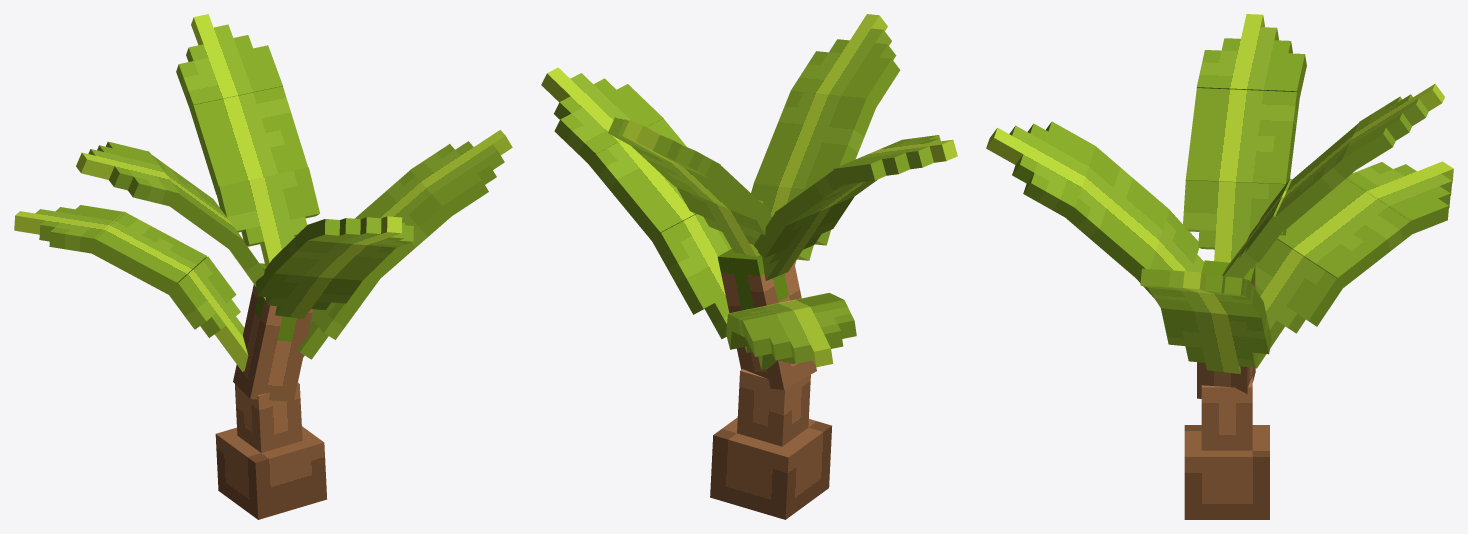
Rendered from PN-BananaTreeNoBanana.gltf.
The picture shows the model from 3 angles, left to right: view 1: azimuth 30°, elevation 25°; view 2: azimuth 150°, elevation 25°; view 3: azimuth 270°, elevation 25°; orthographic projection. The views are drawn at different scales.
Parts seen in each view (by area): view 1: palmTree03$$(1)-Local, l101$$(4)-Local, l100$$(1)-Local, l102$$(4)-Local, Node$$(3)-Local, l101$$(8)-Local, l102$$(5)-Local, l500-Local, l101$$(6)-Local, l102$$(7)-Local, l101$$(5)-Local, l300$$(1)-Local (+5 smaller); view 2: palmTree03$$(1)-Local, l101$$(6)-Local, l102$$(5)-Local, l102$$(6)-Local, l101$$(5)-Local, l200$$(1)-Local, l102$$(8)-Local, Node$$(3)-Local, l102$$(7)-Local, l400$$(1)-Local, l101$$(4)-Local, l100$$(1)-Local (+5 smaller); view 3: palmTree03$$(1)-Local, l101$$(7)-Local, l101$$(8)-Local, l101$$(6)-Local, l102$$(6)-Local, l102$$(7)-Local, l500-Local, l400$$(1)-Local, l200$$(1)-Local, l102$$(8)-Local, l102$$(4)-Local, l101$$(4)-Local (+5 smaller).
Boxes of the visible parts, bbox=[...] form: palmTree03$$(1)-Local: bbox=[215, 382, 327, 519]; l101$$(4)-Local: bbox=[190, 86, 307, 194]; l100$$(1)-Local: bbox=[215, 167, 319, 266]; l102$$(4)-Local: bbox=[176, 14, 282, 111]; Node$$(3)-Local: bbox=[233, 263, 313, 401]; l101$$(8)-Local: bbox=[92, 211, 206, 294]; l102$$(5)-Local: bbox=[410, 130, 512, 217]; l500-Local: bbox=[166, 256, 248, 371]; l101$$(6)-Local: bbox=[272, 225, 395, 280]; l102$$(7)-Local: bbox=[76, 141, 180, 205]; l101$$(5)-Local: bbox=[355, 170, 450, 277]; l300$$(1)-Local: bbox=[255, 259, 362, 318]; palmTree03$$(1)-Local: bbox=[710, 369, 831, 519]; l101$$(6)-Local: bbox=[753, 91, 876, 189]; l102$$(5)-Local: bbox=[541, 67, 663, 163]; l102$$(6)-Local: bbox=[791, 14, 900, 106]; l101$$(5)-Local: bbox=[588, 118, 696, 241]; l200$$(1)-Local: bbox=[652, 214, 731, 339]; l102$$(8)-Local: bbox=[743, 299, 856, 367]; Node$$(3)-Local: bbox=[717, 249, 816, 389]; l102$$(7)-Local: bbox=[833, 135, 957, 185]; l400$$(1)-Local: bbox=[754, 196, 854, 280]; l101$$(4)-Local: bbox=[631, 146, 761, 219]; l100$$(1)-Local: bbox=[676, 187, 771, 256]; palmTree03$$(1)-Local: bbox=[1184, 376, 1269, 519]; l101$$(7)-Local: bbox=[1185, 88, 1299, 184]; l101$$(8)-Local: bbox=[1277, 177, 1415, 289]; l101$$(6)-Local: bbox=[1066, 146, 1169, 279]; l102$$(6)-Local: bbox=[986, 121, 1095, 218]; l102$$(7)-Local: bbox=[1196, 14, 1306, 102]; l500-Local: bbox=[1255, 239, 1342, 368]; l400$$(1)-Local: bbox=[1183, 180, 1286, 262]; l200$$(1)-Local: bbox=[1161, 301, 1271, 373]; l102$$(8)-Local: bbox=[1346, 161, 1453, 233]; l102$$(4)-Local: bbox=[1342, 83, 1444, 170]; l101$$(4)-Local: bbox=[1273, 123, 1358, 230].
Size of the model in its own units: 29.25 by 28.05 by 27.48.
17 materials, 17 textured.
